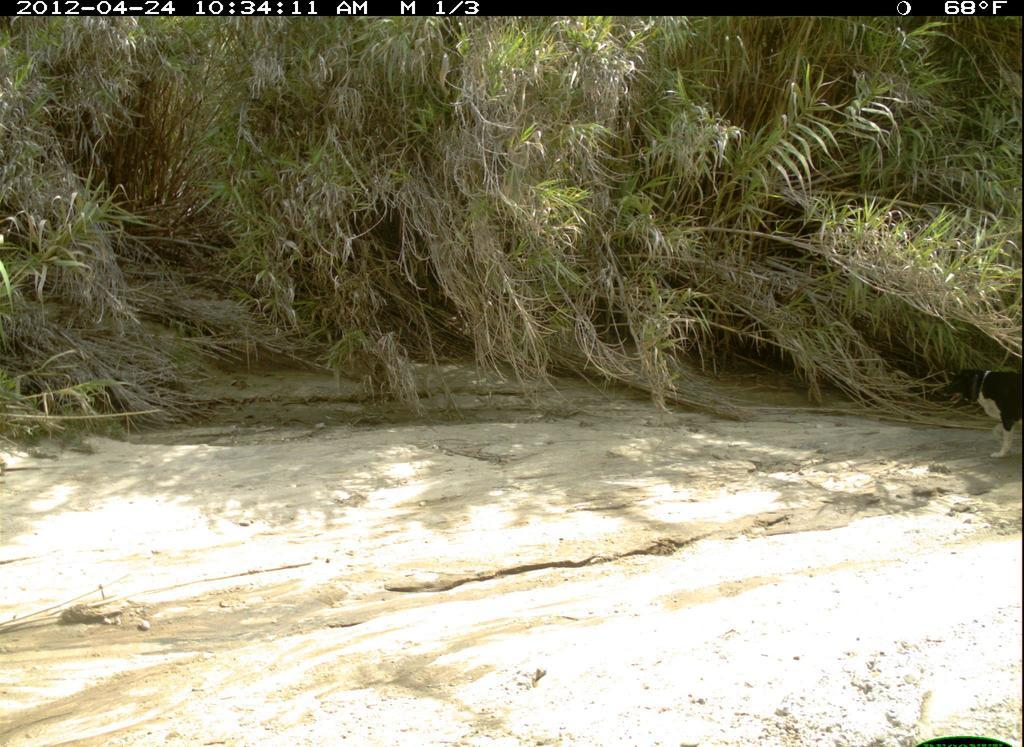dog: (929, 350, 1023, 463)
